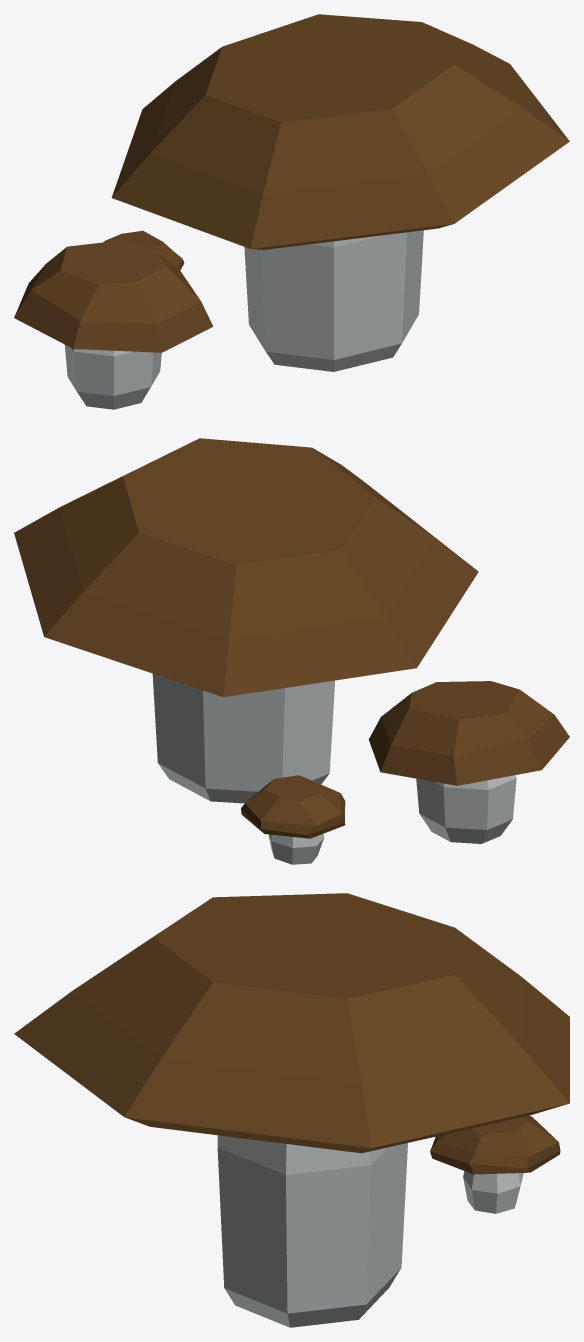
File: seta_6.fbx
3 views of the same model, one above another, from view 1: azimuth 30°, elevation 25°; view 2: azimuth 150°, elevation 25°; view 3: azimuth 270°, elevation 25° (orthographic). The views are drawn at different scales.
Visible parts, largest first — view 1: porcini; view 2: porcini; view 3: porcini.
Boxes of the visible parts, x1,y1,x2,y2 form: porcini: (14,14,569,409); porcini: (14,438,569,864); porcini: (14,893,569,1327).
Size of the model in its own units: 59.3 by 31.95 by 45.37.
